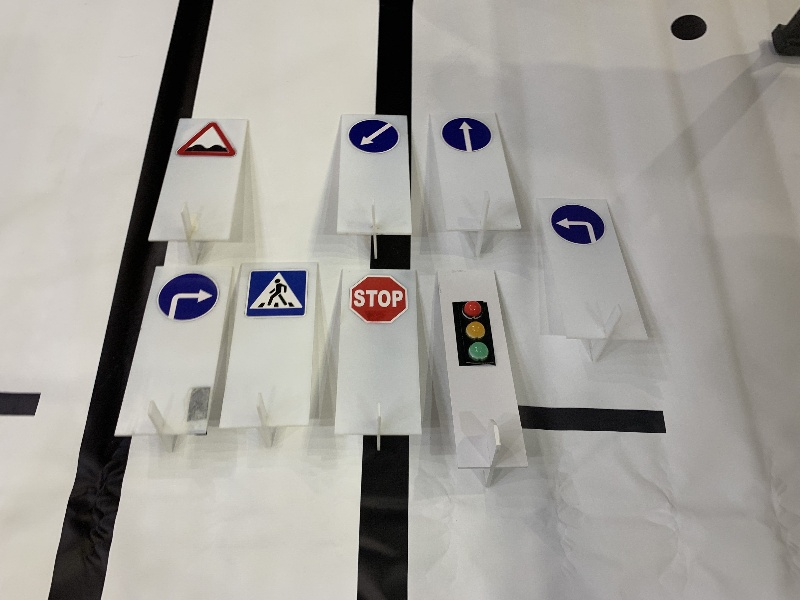Left: (550, 204, 605, 244)
Nerov: (177, 122, 233, 158)
Right: (158, 270, 218, 321)
Stop: (350, 274, 408, 325)
forw: (441, 117, 492, 151)
pesh: (248, 267, 305, 314)
prep: (348, 118, 398, 154)
